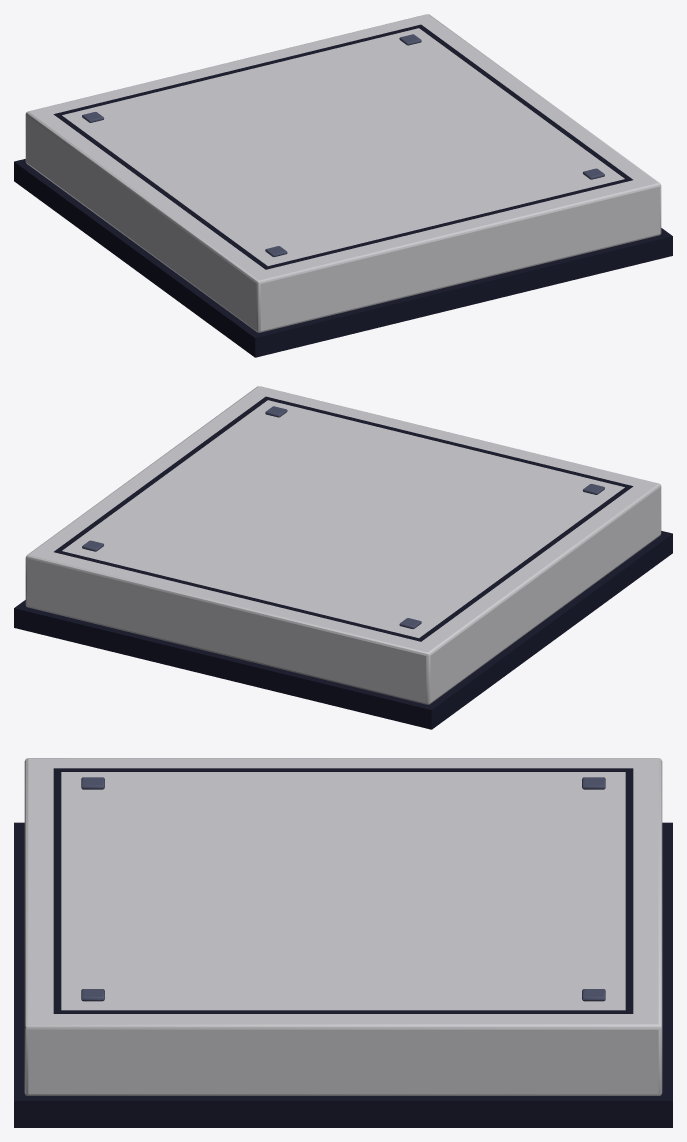
The model's file is roof.square.light.glb.
3 views of the same model, one above another, from view 1: azimuth 30°, elevation 25°; view 2: azimuth 150°, elevation 25°; view 3: azimuth 270°, elevation 25° (orthographic). The views are drawn at different scales.
Parts seen in each view (by area): view 1: GEO-roof.square.light; view 2: GEO-roof.square.light; view 3: GEO-roof.square.light.
Part boxes in pixels (<box>): GEO-roof.square.light: <box>14,14,672,357</box>; GEO-roof.square.light: <box>14,386,672,729</box>; GEO-roof.square.light: <box>14,758,672,1127</box>.
Size of the model in its own units: 1 by 0.17 by 1.
